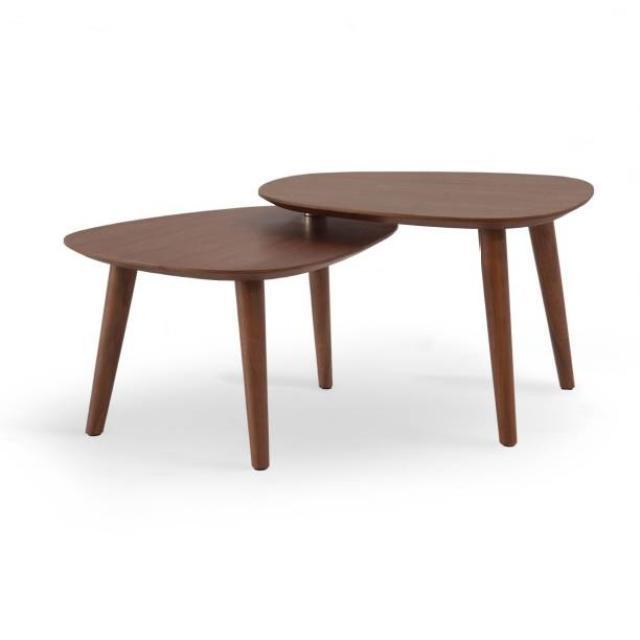table: (256, 170, 594, 448), (61, 203, 398, 470)
